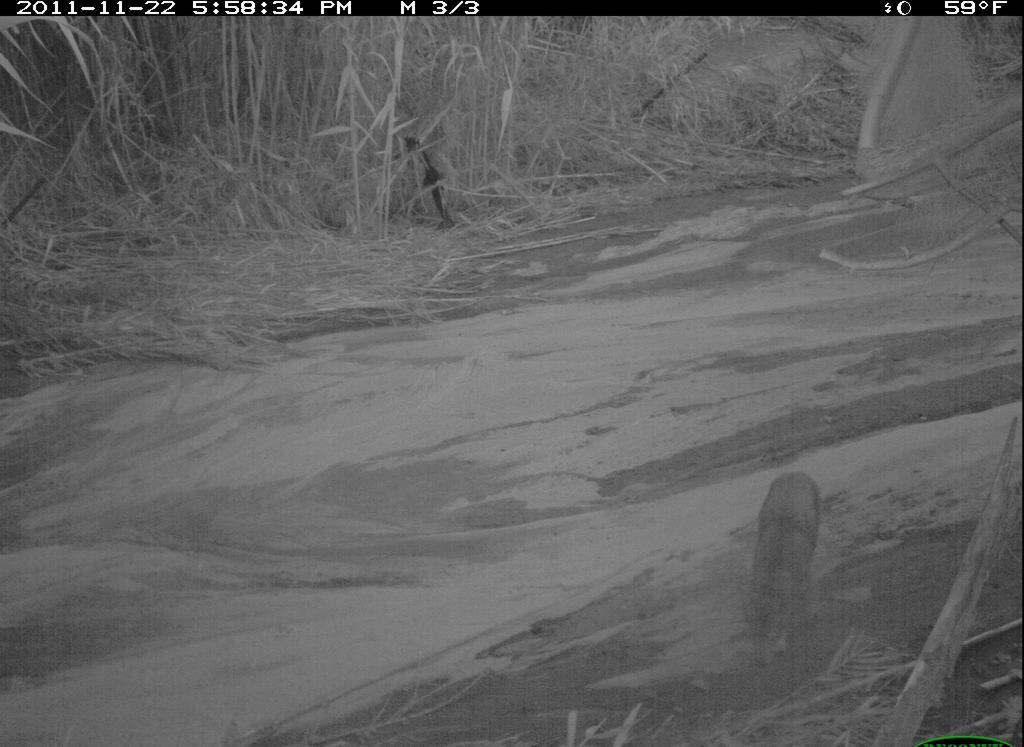coyote: (740, 463, 834, 687)
